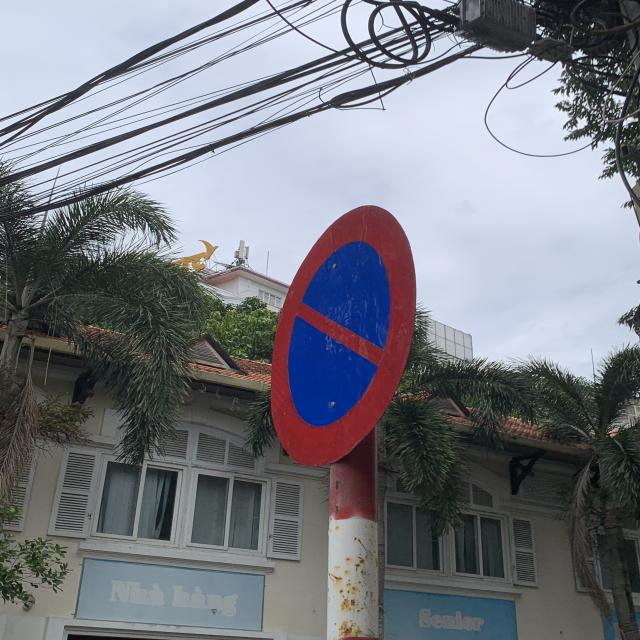Cam_Dau_Xe: (269, 202, 417, 468)
